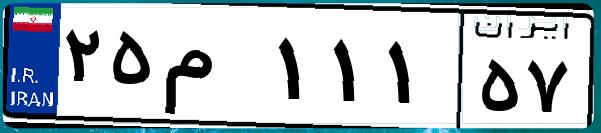1: (270, 28, 330, 110), (385, 28, 445, 110), (330, 28, 385, 110)
2: (57, 26, 110, 100)
5: (475, 38, 525, 113), (110, 28, 158, 98)
7: (525, 38, 570, 115)
م: (158, 20, 270, 120)
